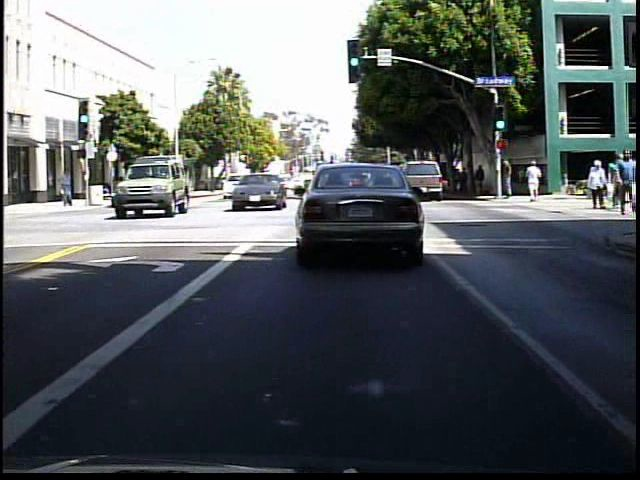person: (583, 159, 611, 211), (617, 149, 637, 216), (495, 156, 515, 205), (523, 159, 544, 205), (60, 168, 79, 209), (474, 164, 489, 196), (460, 165, 473, 198)
